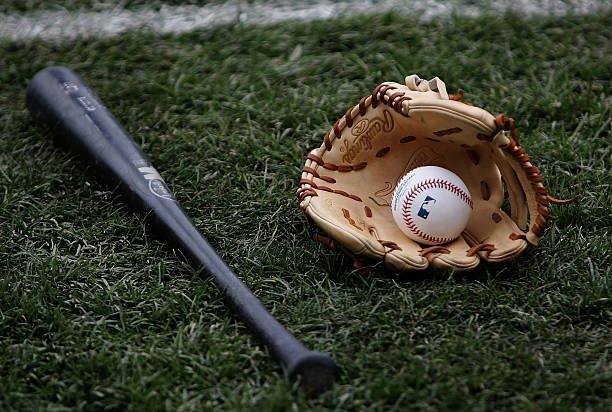bita: (35, 67, 312, 381)
